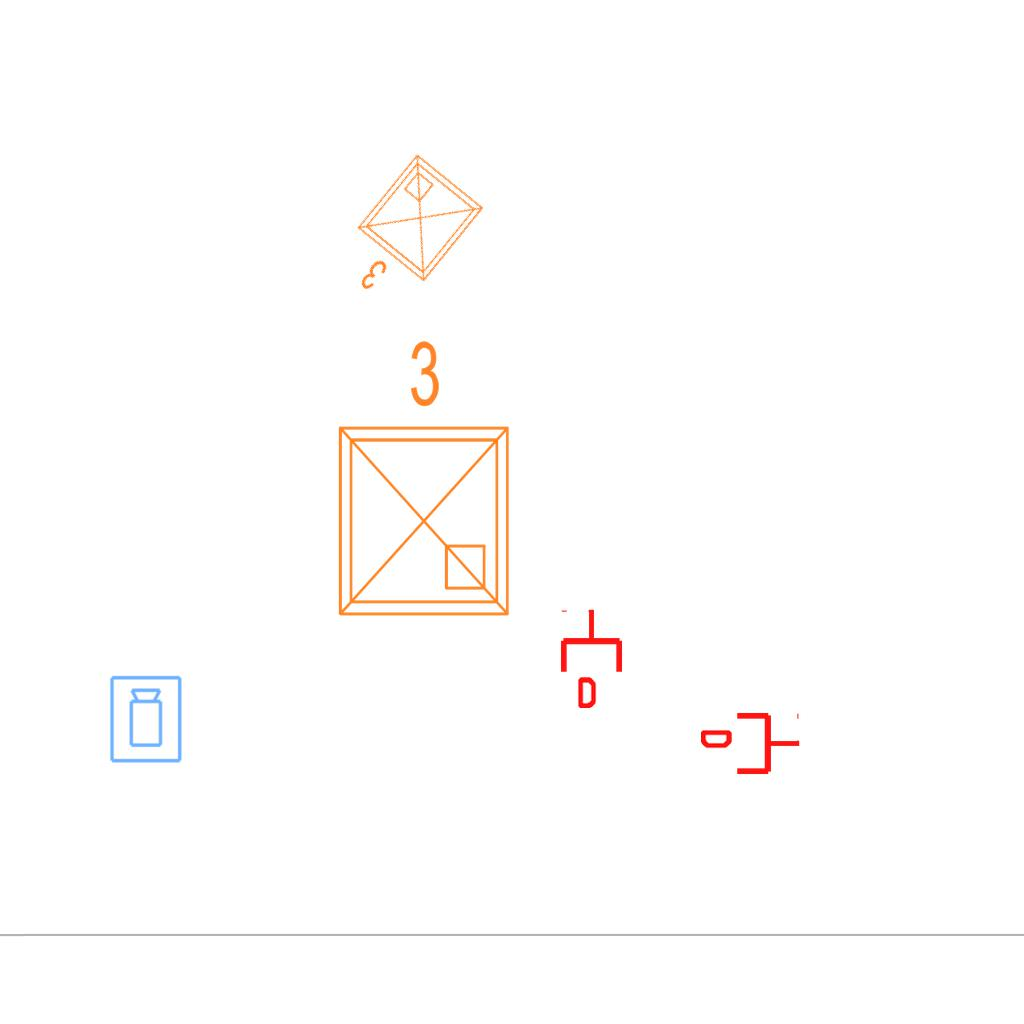Datenanschluss_einfach: (701, 709, 801, 778), (557, 608, 626, 708)
Einbaudownlights_LED_Konferenzraeume: (316, 330, 524, 630), (321, 143, 497, 327)
KFO_Kamera_mit_Festobjektiv: (108, 674, 185, 765)
